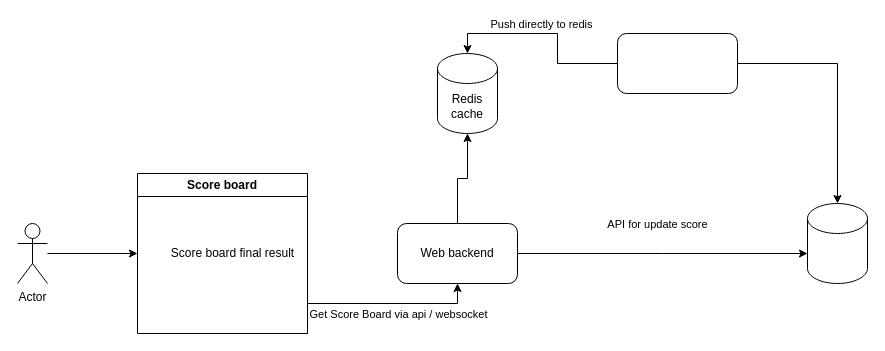
Some shapes in this 885 by 351 pixel diagram are drawn without their labels. Each missing label, with the centre of its shape:
"Cronjob to update score board every minute" goes at point (677, 63).
"Database" goes at point (837, 243).
